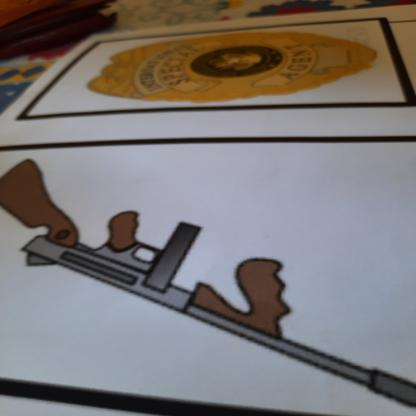Bootlegger: (6, 157, 416, 416)
G-man: (79, 32, 397, 112)
